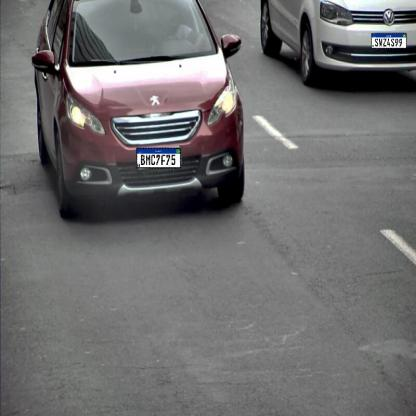PlacaM: (136, 147, 181, 168), (371, 33, 407, 49)
